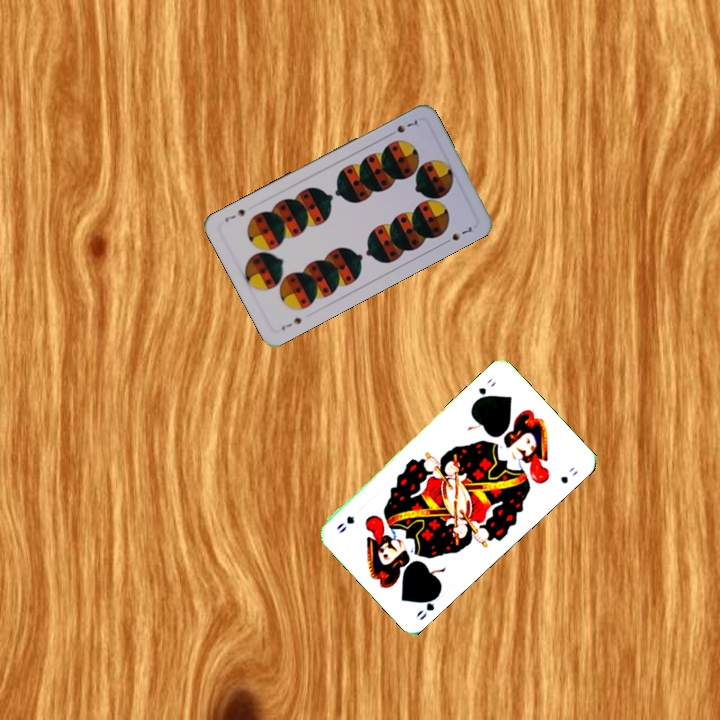GO: (412, 588, 443, 623), (470, 375, 499, 405)
S7: (384, 116, 420, 139), (277, 313, 304, 333)
